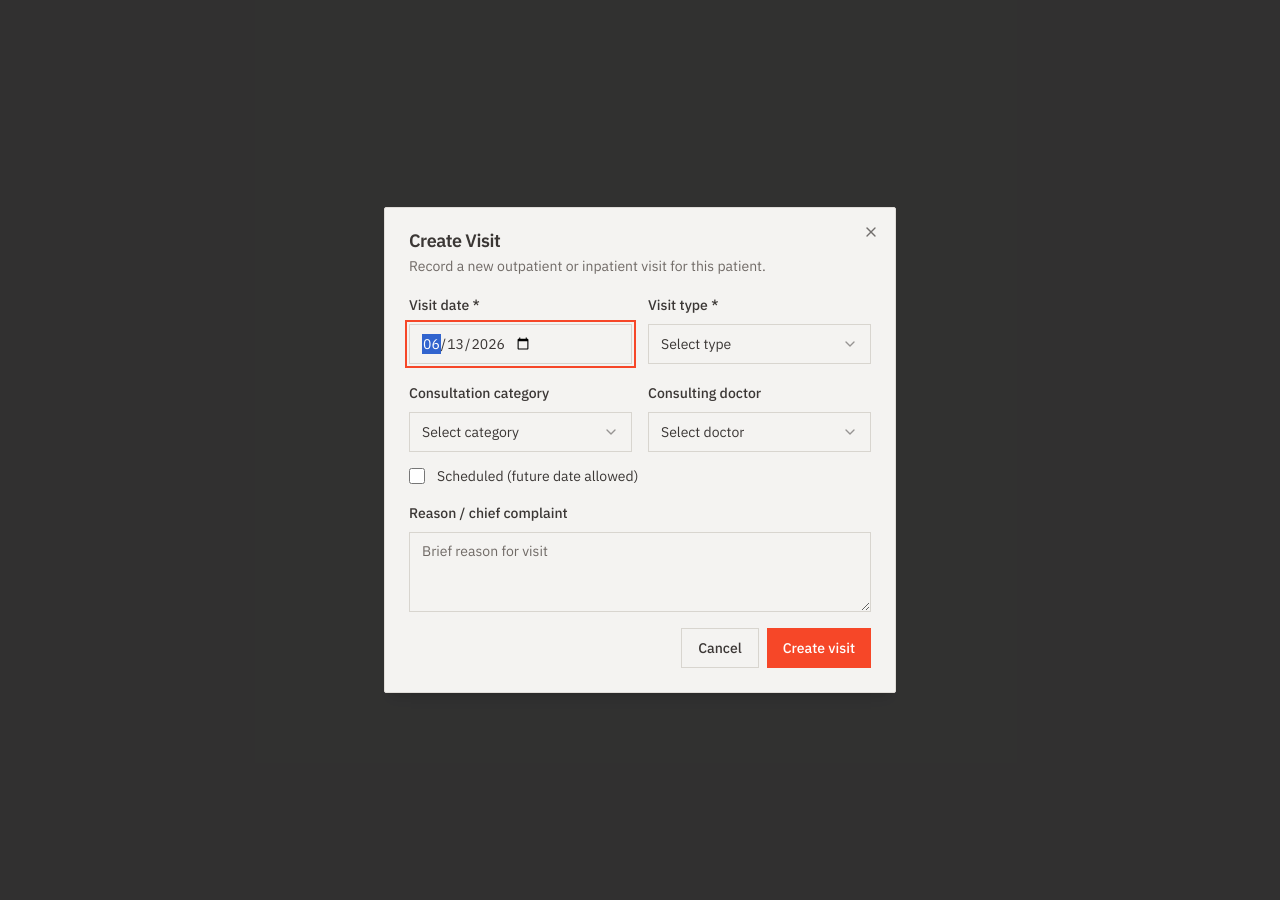
VisitFormDialog — form validation › shows visit type required error when form is submitted without a type
Expected: the dialog "Create Visit" is shown, [384,207,896,693]
What coordinates should you click on to do the following:
click the button "Create visit"
I would click on:
 (819, 648)
Its box is [767,628,871,668].
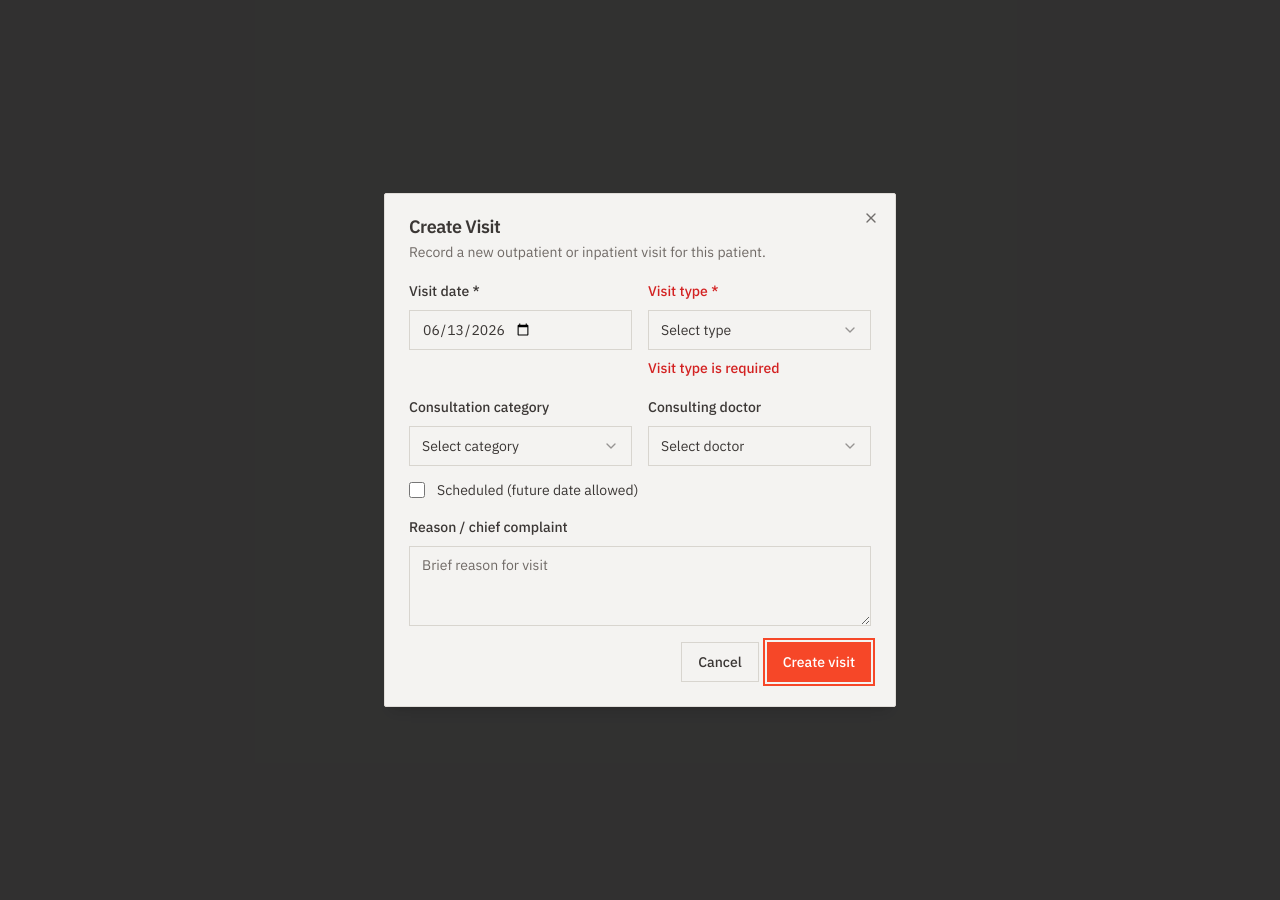
Expected: the text "Visit type is required" is shown, [648,359,780,377]
